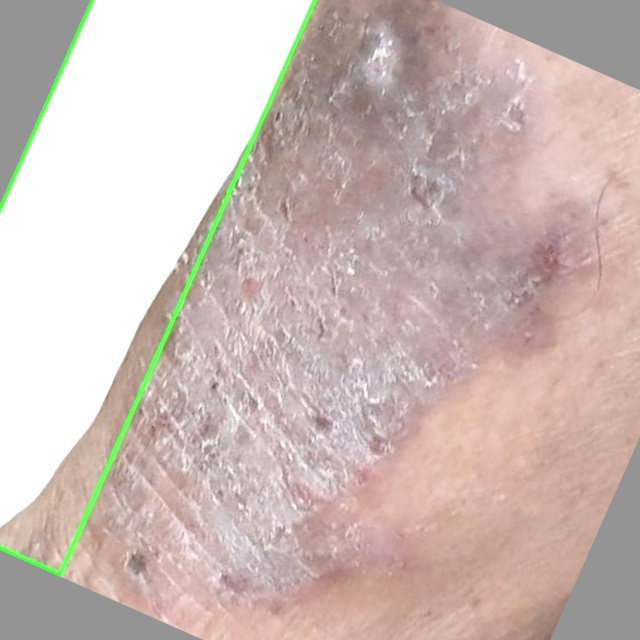Eczema: (0, 0, 313, 575)
